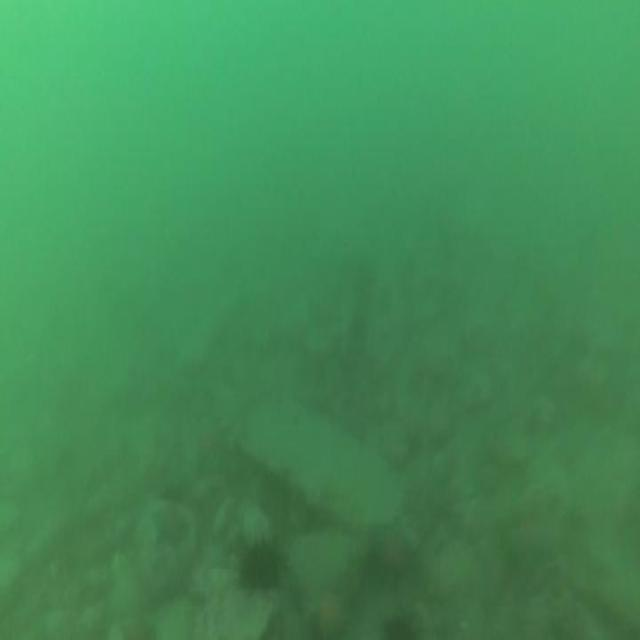echinus: (232, 531, 286, 600), (378, 610, 423, 640)
starfish: (374, 517, 414, 586), (307, 583, 349, 640), (148, 498, 188, 556)
